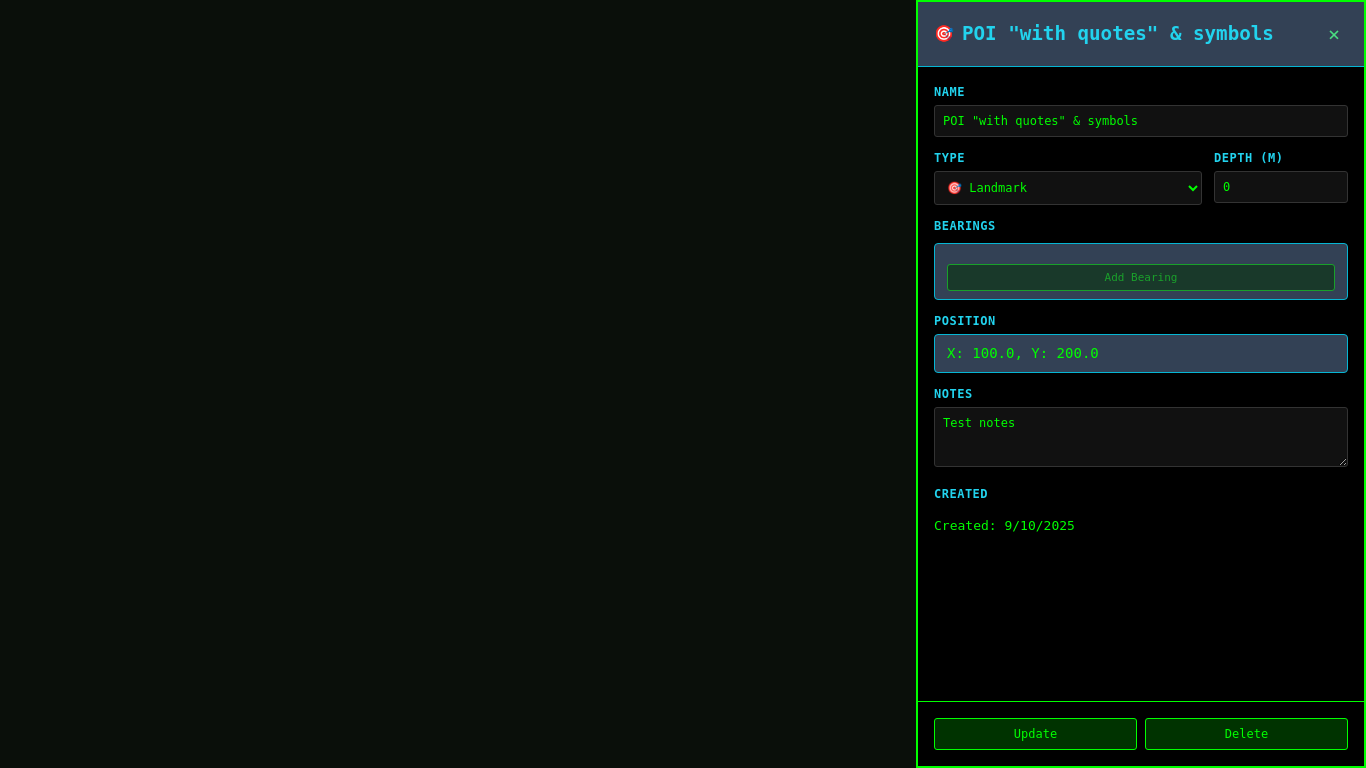
Scenario: POIDetailsSidebar Delete Functionality › should handle delete with special characters in POI name
Click the button "Delete" at (1246, 734), box [1145,718,1348,750]
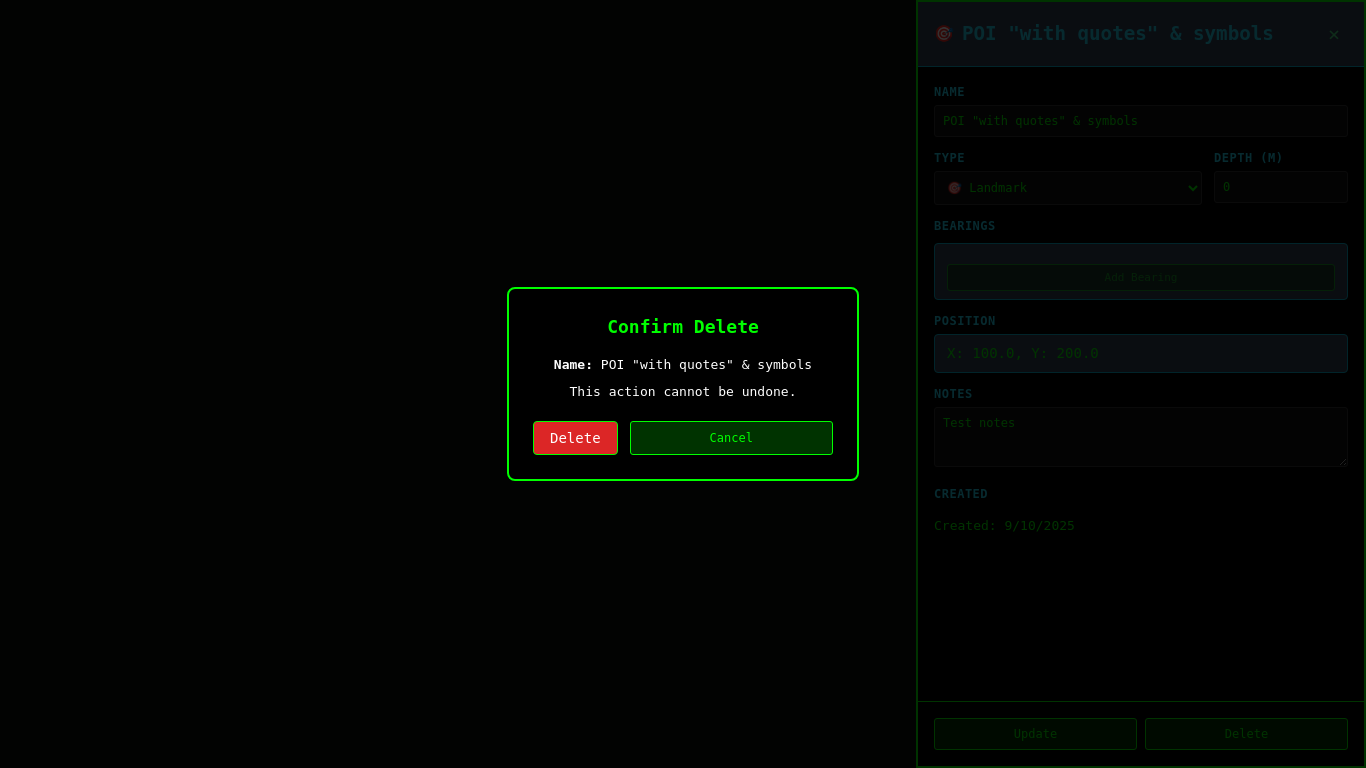
expect the heading "Confirm Delete" is shown: met, box [607,316,759,337]
